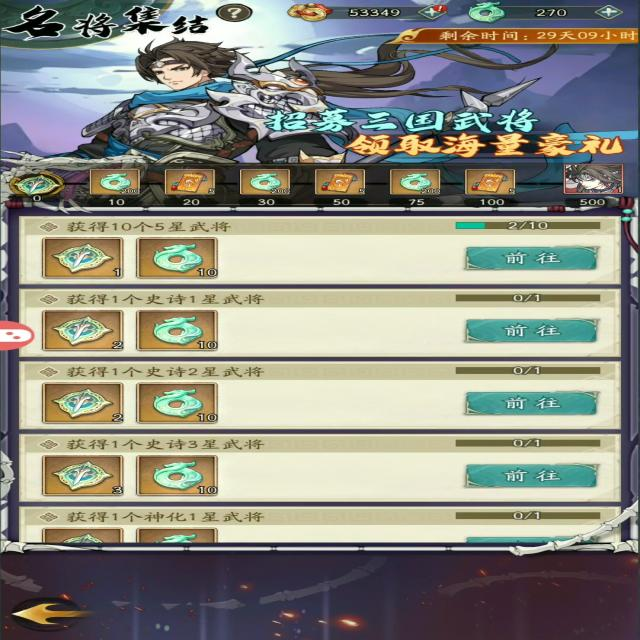hint-reddot: (435, 3, 456, 16)
operation-back: (8, 601, 93, 633)
operation-buy: (450, 246, 604, 271), (458, 392, 599, 417), (458, 321, 599, 345), (461, 463, 595, 486)
operation-rule: (206, 3, 259, 27)
ref-buytext: (38, 432, 272, 454), (42, 216, 256, 237), (47, 362, 281, 380), (41, 290, 284, 304), (39, 509, 276, 523)
